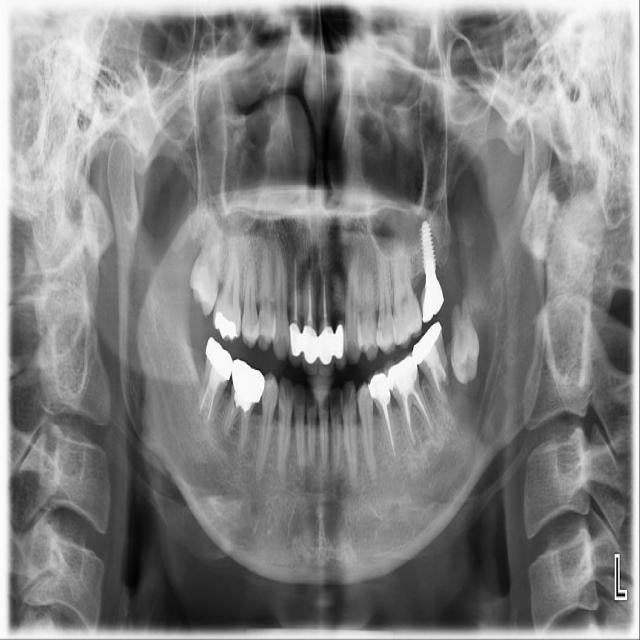52: (287, 320, 350, 377), (218, 357, 273, 409), (379, 348, 430, 403), (404, 319, 454, 371), (194, 334, 243, 386), (212, 293, 243, 342), (419, 275, 445, 323), (367, 366, 393, 412), (240, 305, 261, 348)
73: (417, 346, 462, 419), (392, 382, 439, 447), (191, 361, 231, 430), (219, 385, 258, 453), (376, 401, 400, 463), (289, 251, 305, 327), (300, 268, 317, 329), (317, 272, 331, 328), (619, 610, 631, 620)
Biomet 3i Implant: (450, 294, 480, 386)
Blue Sky Bio Implant: (407, 321, 457, 419)
Caries: (187, 217, 225, 318)
Implant: (193, 336, 237, 432)
